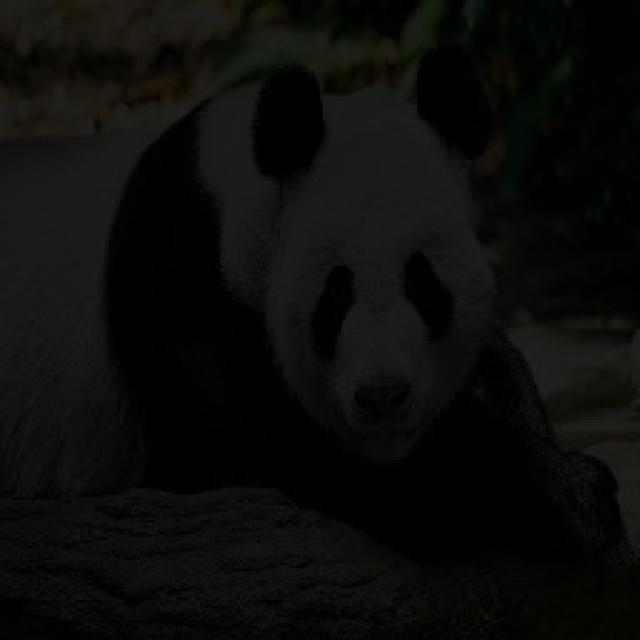animal: (79, 54, 609, 506)
